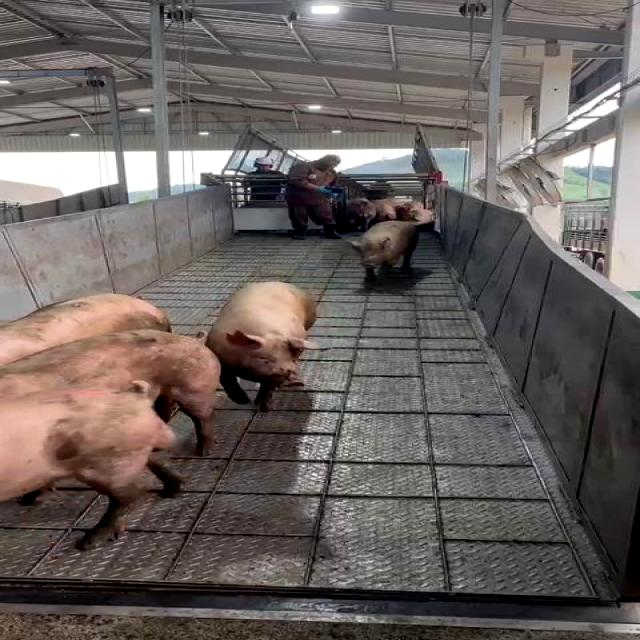pig: (1, 392, 183, 547), (1, 331, 219, 454), (206, 282, 319, 411), (1, 294, 170, 364), (349, 221, 418, 278)
